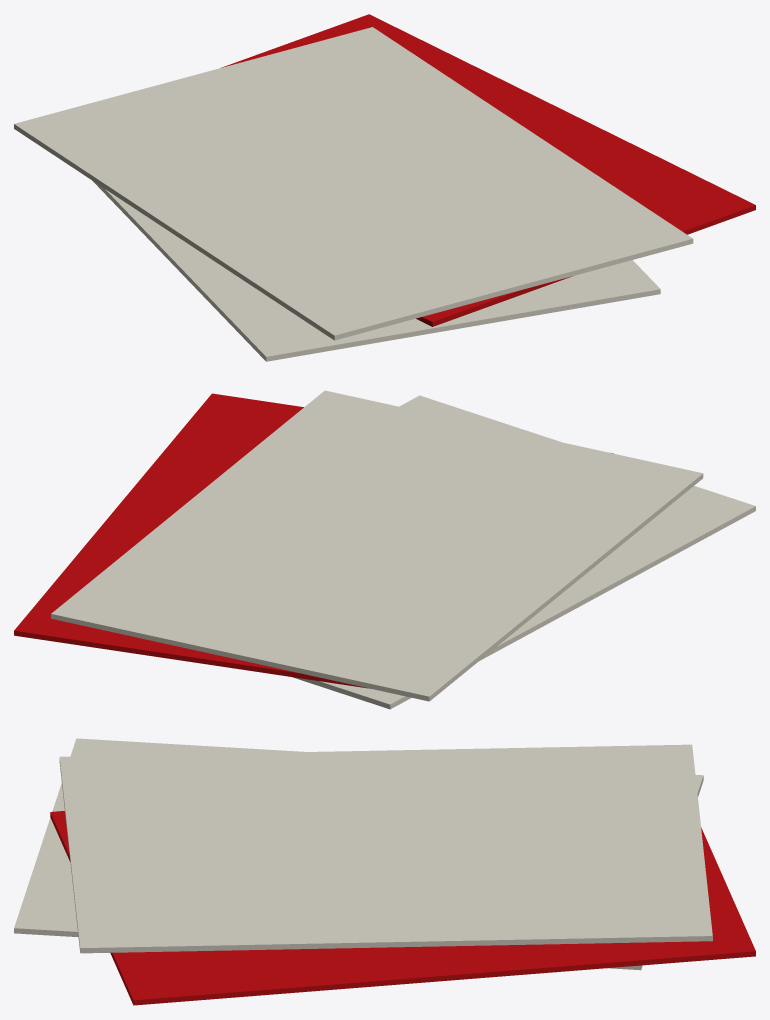
The model's file is Item_OR_Cards_00.glb.
The picture shows the model from 3 angles, top to bottom: view 1: azimuth 30°, elevation 25°; view 2: azimuth 150°, elevation 25°; view 3: azimuth 270°, elevation 25°; orthographic projection. The views are drawn at different scales.
Visible parts, largest first — view 1: Item_OR_Cards_00; view 2: Item_OR_Cards_00; view 3: Item_OR_Cards_00.
Part boxes in pixels (x1,y1,x2,y2): Item_OR_Cards_00: (14, 14, 755, 361); Item_OR_Cards_00: (14, 390, 755, 709); Item_OR_Cards_00: (14, 738, 755, 1005).
Bounding box in the file's own units: 0.0883 × 0.0028 × 0.1031.
